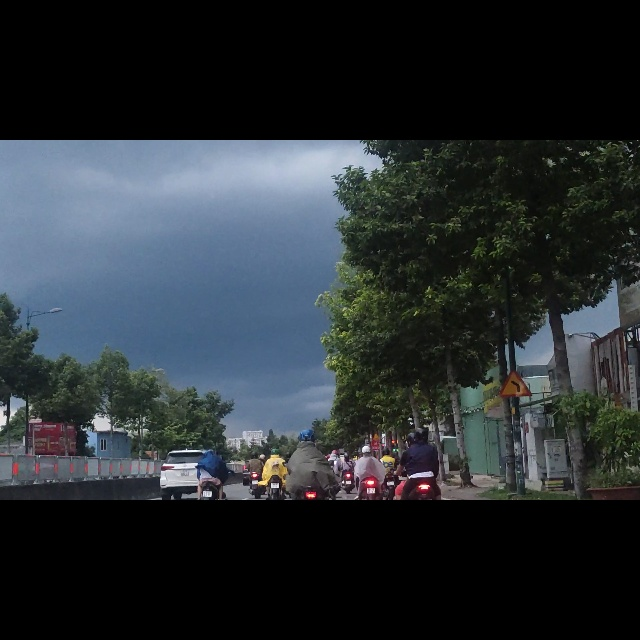bien_hieu_lenh: (498, 405, 534, 458)
